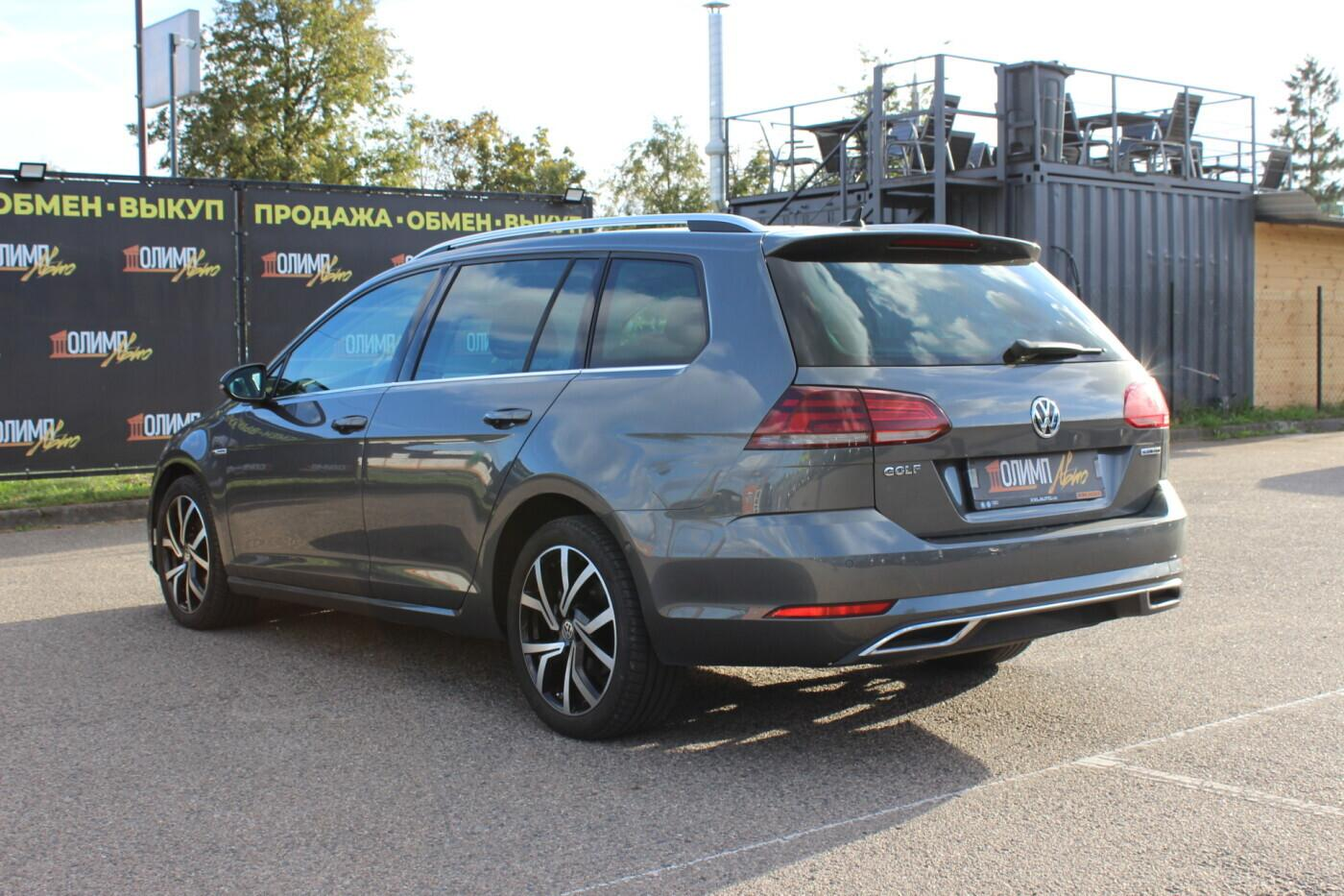Golf_2017-2021: (146, 216, 1196, 737)
